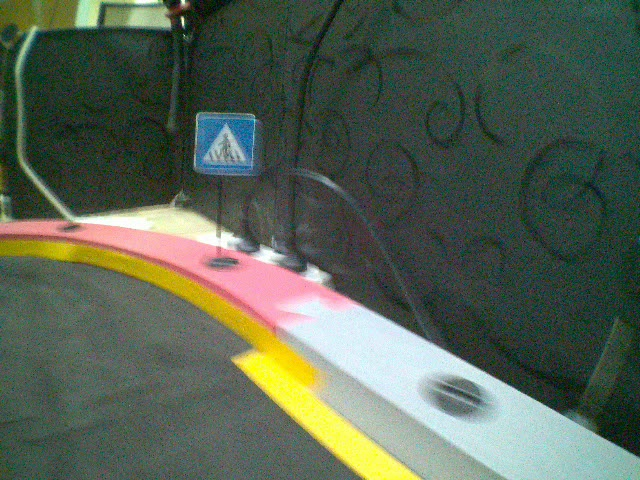crossing: (193, 111, 258, 173)
